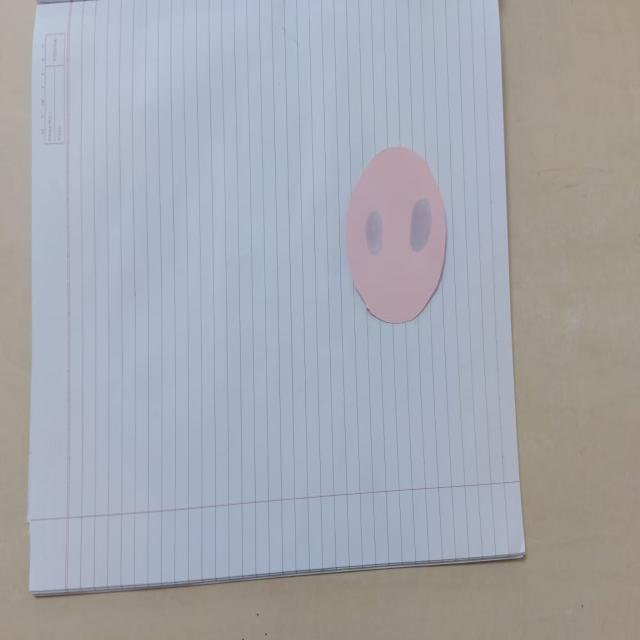BlueColor: (409, 199, 432, 252), (365, 210, 382, 255)
